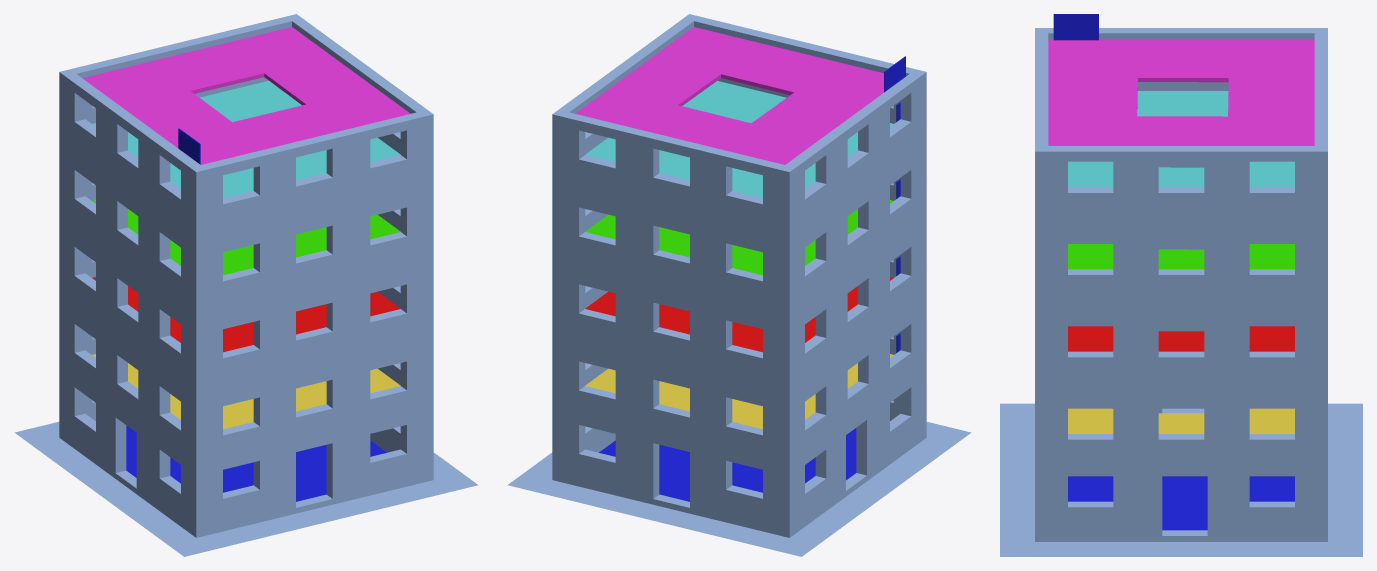
File: building2.glb
The picture shows the model from 3 angles, left to right: view 1: azimuth 30°, elevation 25°; view 2: azimuth 150°, elevation 25°; view 3: azimuth 270°, elevation 25°; orthographic projection. The views are drawn at different scales.
Visible parts, largest first — view 1: Walls, Floor6, Floor5, Floor1, Floor2, Floor4, Floor3; view 2: Walls, Floor6, Floor5, Floor1, Floor2, Floor4, Floor3; view 3: Walls, Floor6, Floor5, Floor1, Floor3, Floor2, Floor4, ElevPanel6.
Boxes of the visible parts, x1=… form: Walls: x1=14, y1=14, x2=478, y2=556; Floor6: x1=82, y1=27, x2=410, y2=164; Floor5: x1=92, y1=80, x2=400, y2=198; Floor1: x1=126, y1=425, x2=386, y2=501; Floor2: x1=92, y1=354, x2=400, y2=429; Floor4: x1=92, y1=200, x2=400, y2=275; Floor3: x1=92, y1=277, x2=400, y2=352; Walls: x1=507, y1=14, x2=971, y2=556; Floor6: x1=575, y1=27, x2=883, y2=164; Floor5: x1=585, y1=81, x2=893, y2=198; Floor1: x1=599, y1=428, x2=856, y2=501; Floor2: x1=585, y1=354, x2=893, y2=429; Floor4: x1=585, y1=200, x2=893, y2=275; Floor3: x1=585, y1=277, x2=893, y2=352; Walls: x1=1000, y1=28, x2=1362, y2=556; Floor6: x1=1048, y1=39, x2=1314, y2=145; Floor5: x1=1068, y1=91, x2=1294, y2=187; Floor1: x1=1068, y1=476, x2=1294, y2=530; Floor3: x1=1068, y1=326, x2=1294, y2=351; Floor2: x1=1068, y1=408, x2=1294, y2=433; Floor4: x1=1068, y1=244, x2=1294, y2=269; ElevPanel6: x1=1053, y1=14, x2=1098, y2=40.
Size of what is drawn, in the model's own units: 16 by 20 by 16.
